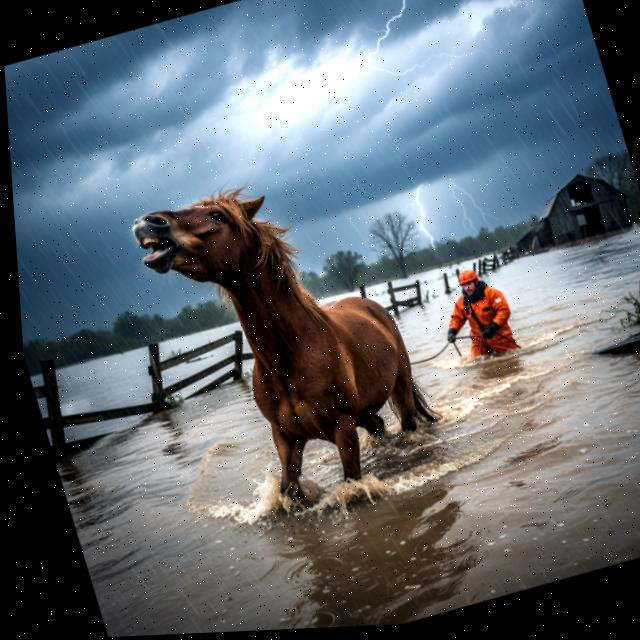horse: (117, 136, 469, 548)
rescuer: (424, 247, 541, 385)
